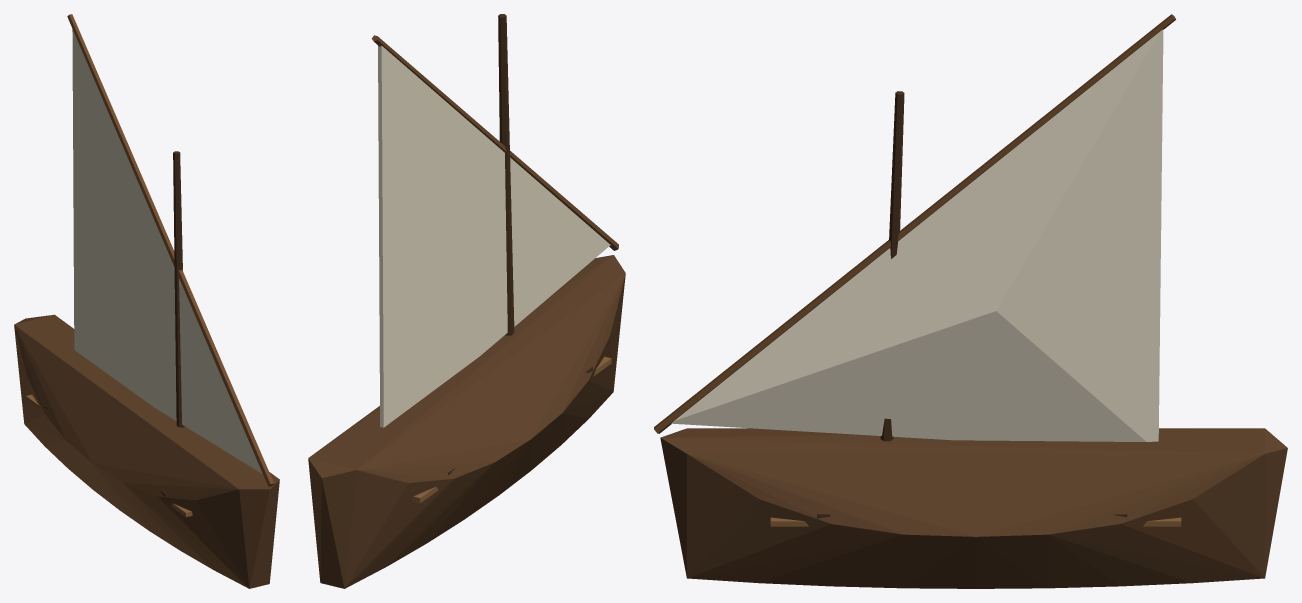
The model's file is desert_boat.glb.
3 views of the same model, side by side, from view 1: azimuth 30°, elevation 25°; view 2: azimuth 150°, elevation 25°; view 3: azimuth 270°, elevation 25° (orthographic). The views are drawn at different scales.
Visible parts, largest first — view 1: desert_boat; view 2: desert_boat; view 3: desert_boat.
Boxes of the visible parts, box(x1,y1,x2,y2) form: desert_boat: box(14, 14, 279, 588); desert_boat: box(308, 14, 625, 588); desert_boat: box(654, 14, 1287, 588).
Size of the model in its own units: 2.1 by 8.08 by 8.33.
